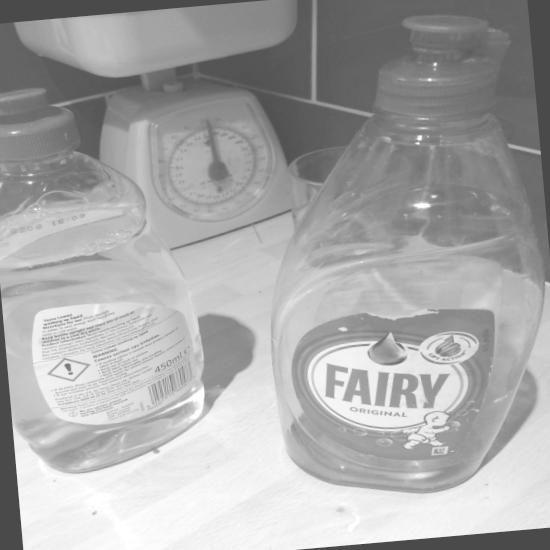Glass cup: (289, 146, 410, 274)
Other plastic container: (271, 15, 545, 492), (0, 87, 204, 473)
